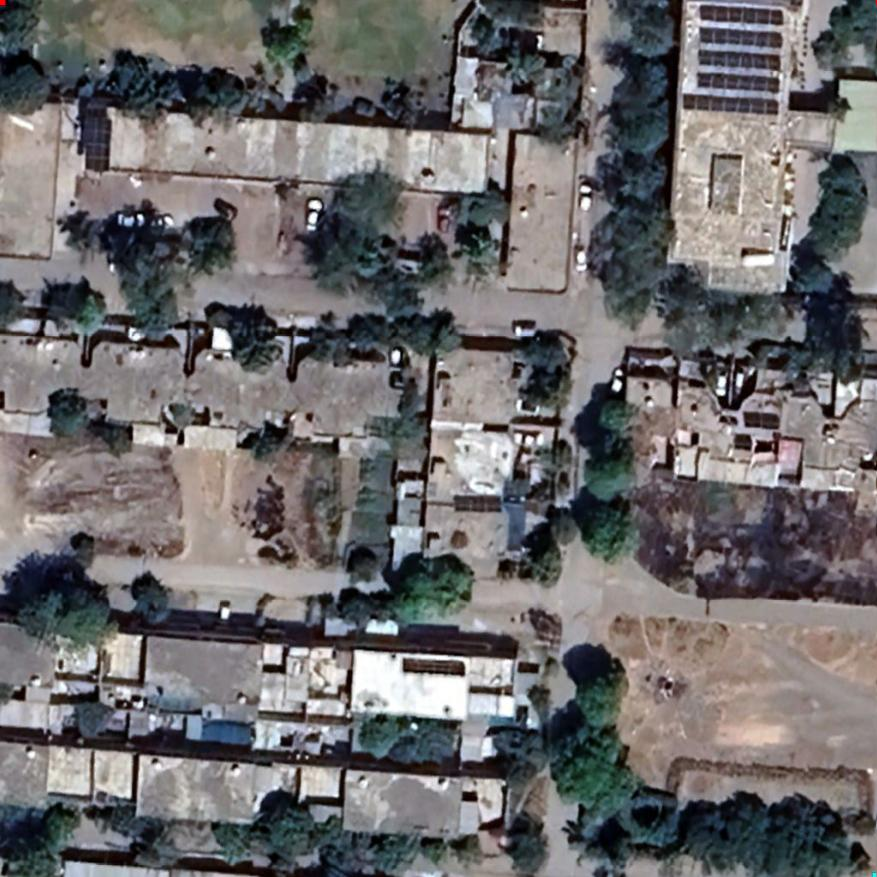Solarpanel: (677, 4, 788, 116), (397, 655, 469, 681), (447, 493, 506, 518)
